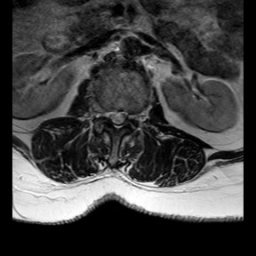CCS_normal: (115, 101, 121, 135)
LFS_stenosis: (128, 102, 136, 129)
LLS_stenosis: (121, 102, 129, 129)
RFS_stenosis: (99, 98, 107, 125)
RLS_normal: (107, 102, 115, 129)
